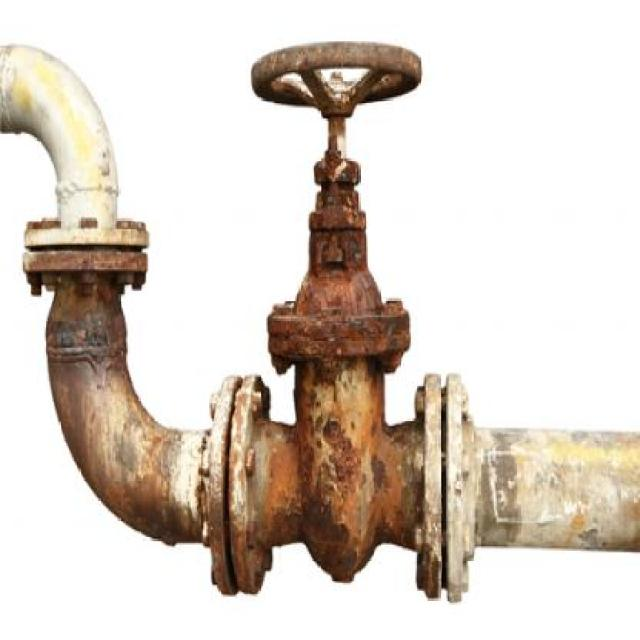corrosion: (0, 39, 640, 610)
